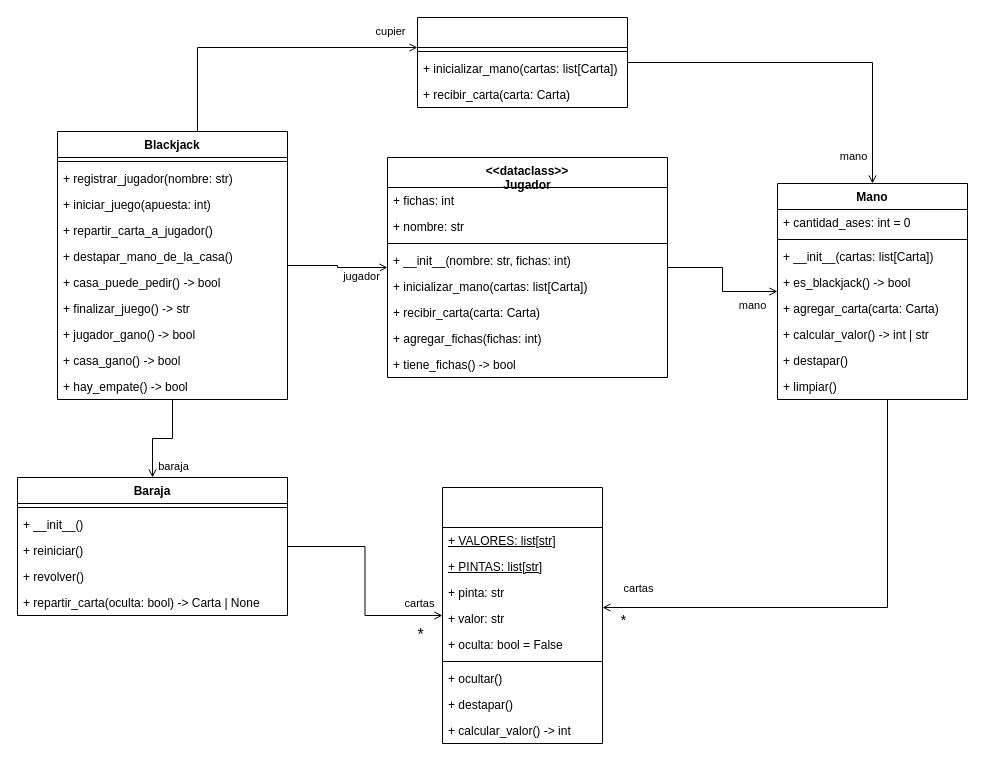
Image size: 985x764. Some labels were removed from this diagram. Each missing label, with the box of its shape:
<<dataclass>> Carta: (442, 486, 602, 744)
<<dataclass>> Casa: (416, 16, 628, 108)
